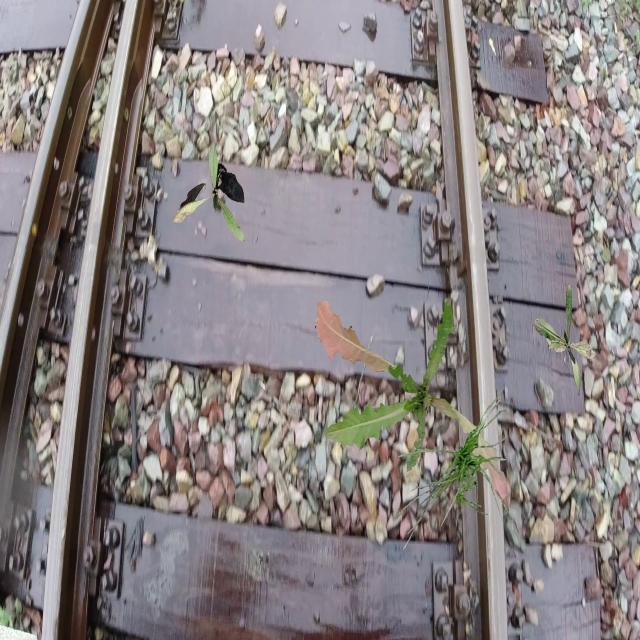Plant: (315, 298, 508, 500), (396, 387, 514, 550), (533, 285, 597, 397), (173, 142, 244, 242)
